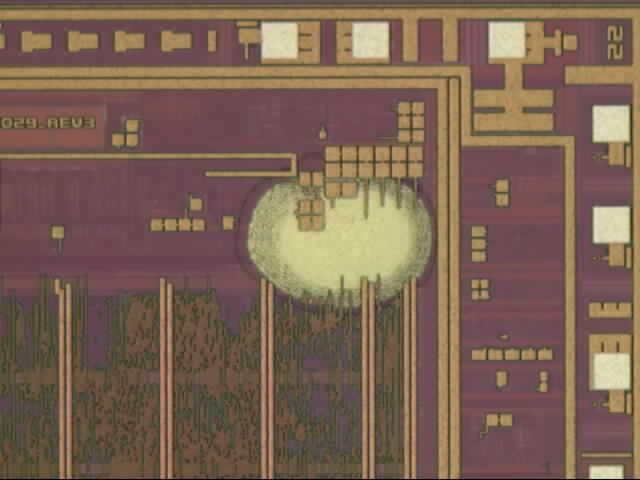BLOCK ETCH: (229, 156, 445, 321)
